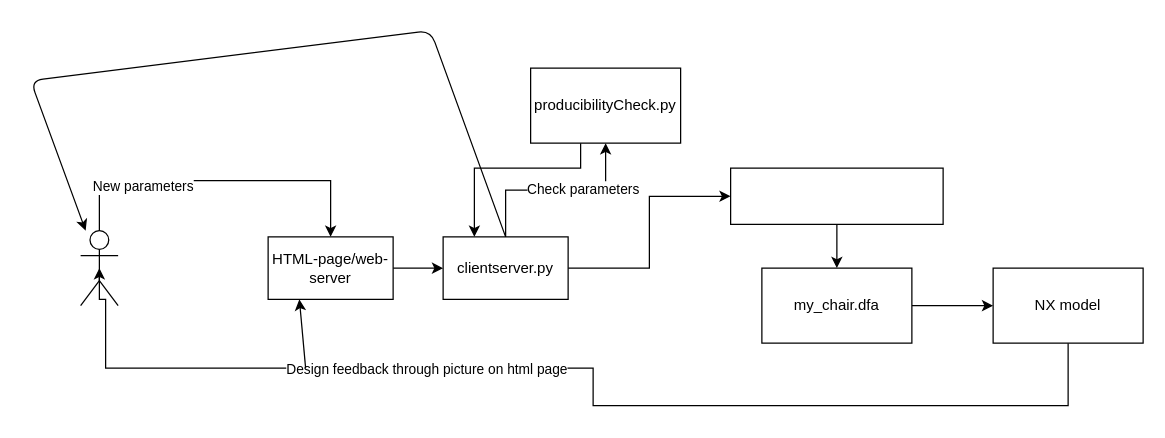
This 1165x438 diagram has some shape labels left out. Here are the shapes that lost their labels. From the top down, the box of each, then its label:
(729, 167, 943, 224): my_chair_final_template.dfa
(79, 229, 118, 306): Customer
